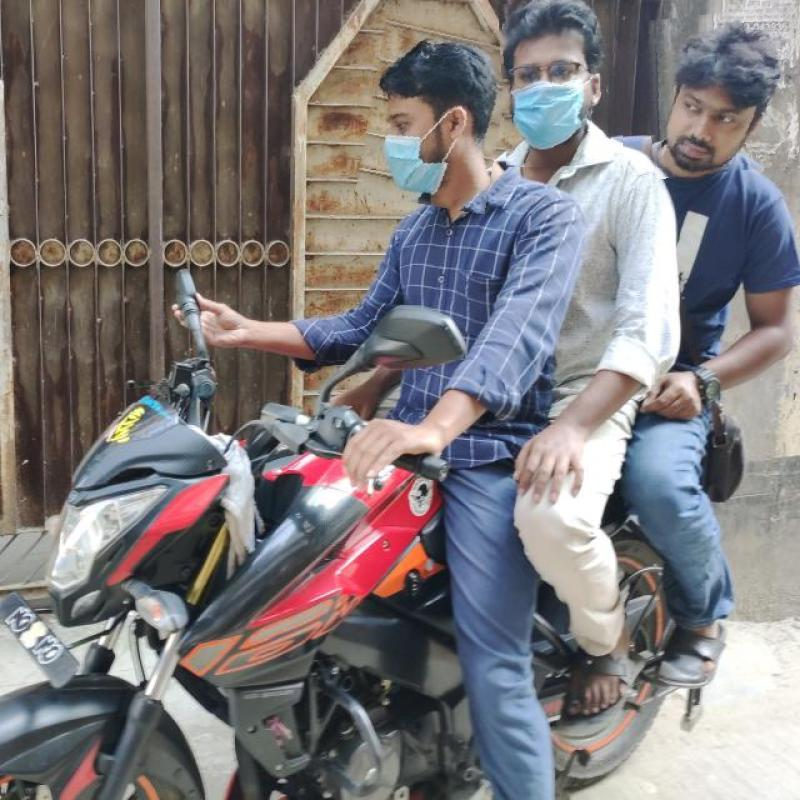nohelmet: (363, 19, 509, 210), (643, 9, 800, 175), (500, 0, 621, 166)
